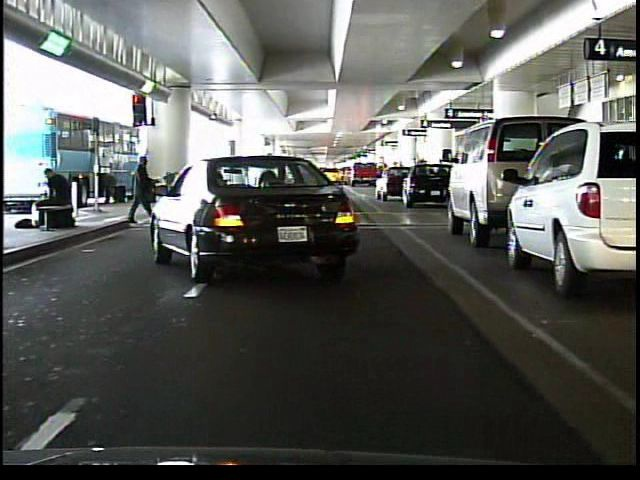person: (36, 164, 74, 236), (128, 150, 157, 231)
